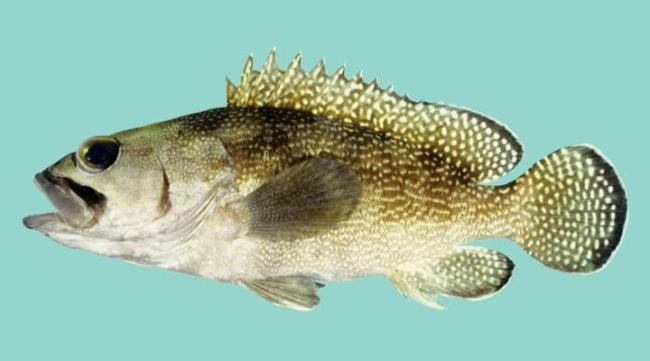fish: (22, 46, 629, 312)
